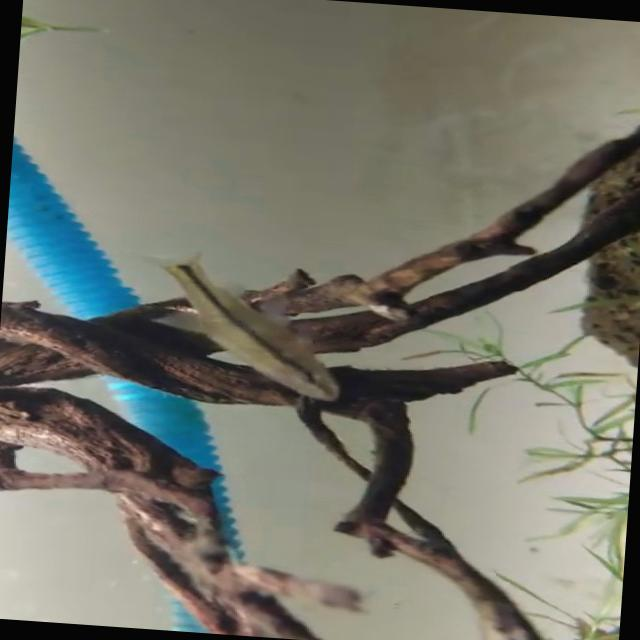Cakil Baligi: (119, 256, 348, 401)
